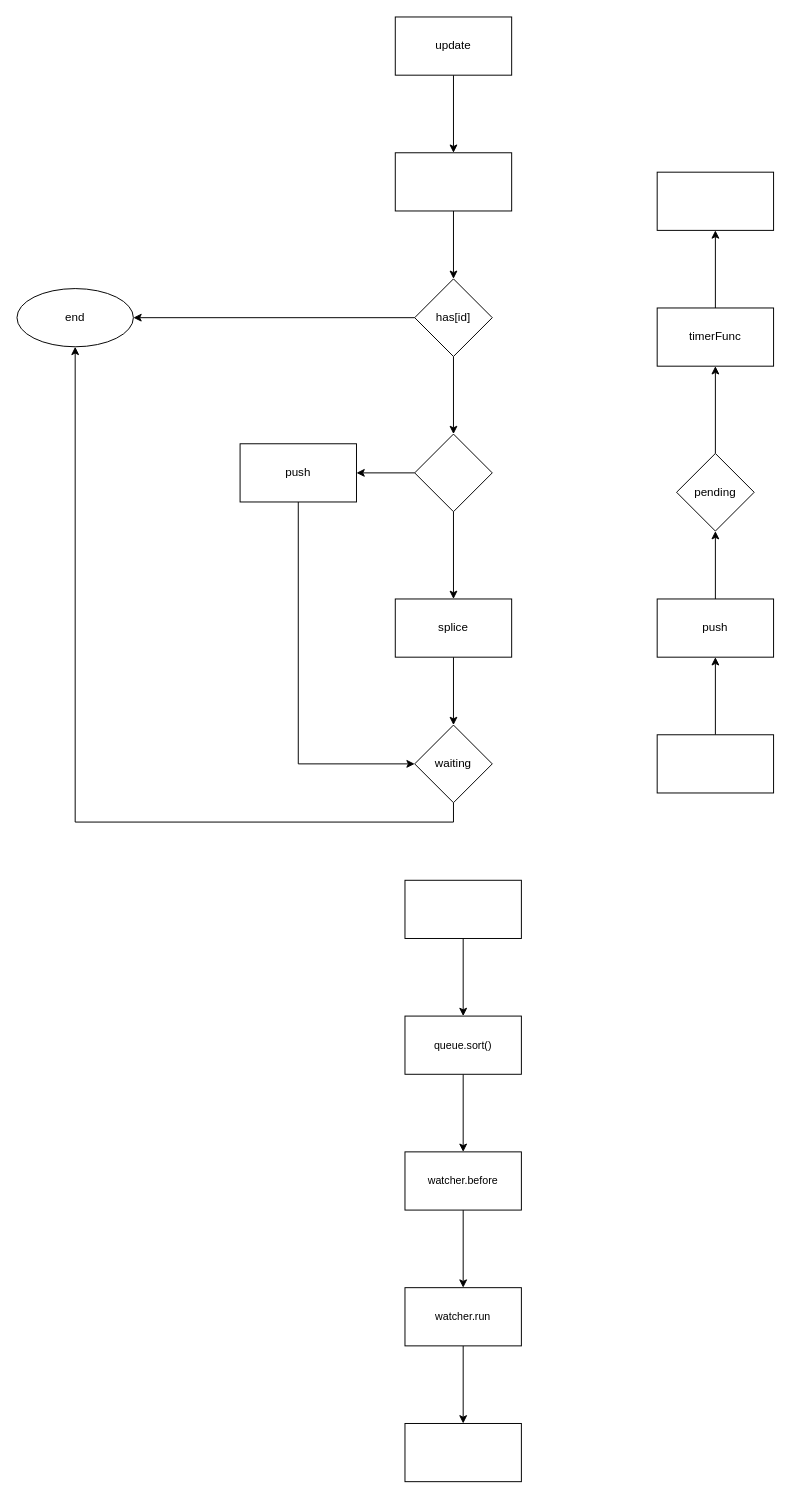
This 791x1499 diagram has some shape labels left out. The shapes that lost their labels are listed below. From the top down, each one's centre as x and y in pixels, then its label:
the point at 453,181: queueWatcher
the point at 715,200: flushCallbacks
the point at 453,472: flushing
the point at 715,763: nextTick
the point at 462,908: flushSchedulerQueue
the point at 462,1452: activated updated
